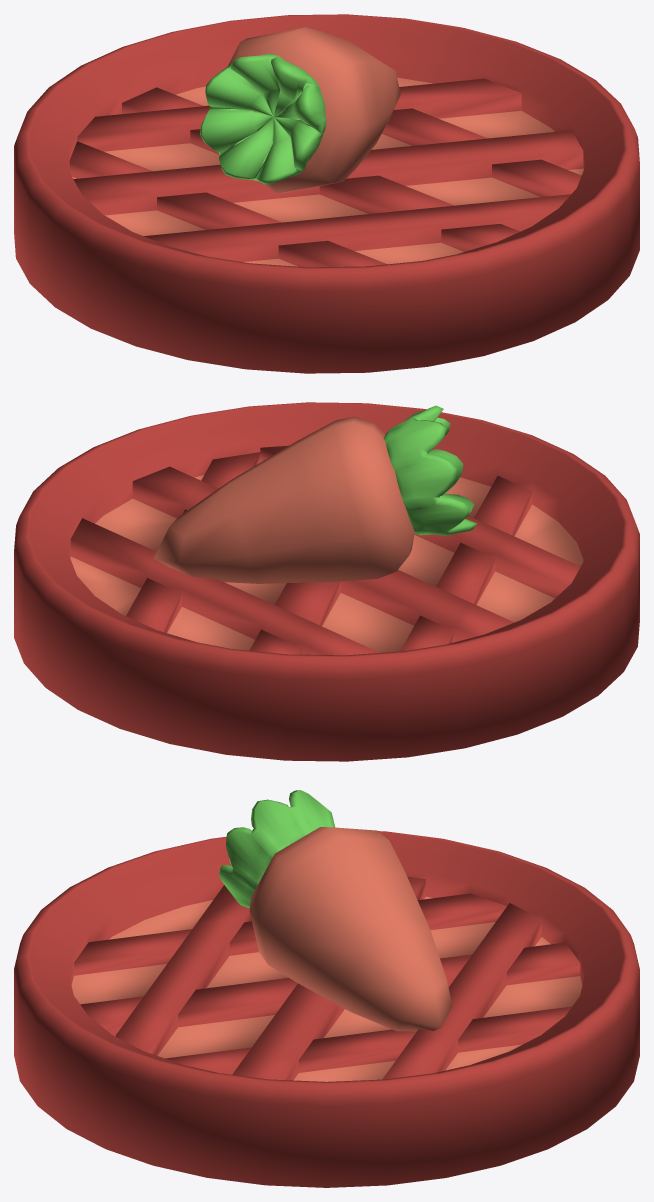
File: Carrot_Pie_Whole_Food.glb
The picture shows the model from 3 angles, top to bottom: view 1: azimuth 30°, elevation 25°; view 2: azimuth 150°, elevation 25°; view 3: azimuth 270°, elevation 25°; orthographic projection.
Parts seen in each view (by area): view 1: Carrot_Pie_Whole_Food; view 2: Carrot_Pie_Whole_Food; view 3: Carrot_Pie_Whole_Food.
Boxes of the visible parts, x1,y1,x2,y2 form: Carrot_Pie_Whole_Food: [14, 14, 639, 373]; Carrot_Pie_Whole_Food: [14, 402, 639, 761]; Carrot_Pie_Whole_Food: [14, 790, 639, 1187].
Size of the model in its own units: 0.1185 by 0.0455 by 0.1185.
1 material, 1 textured.
